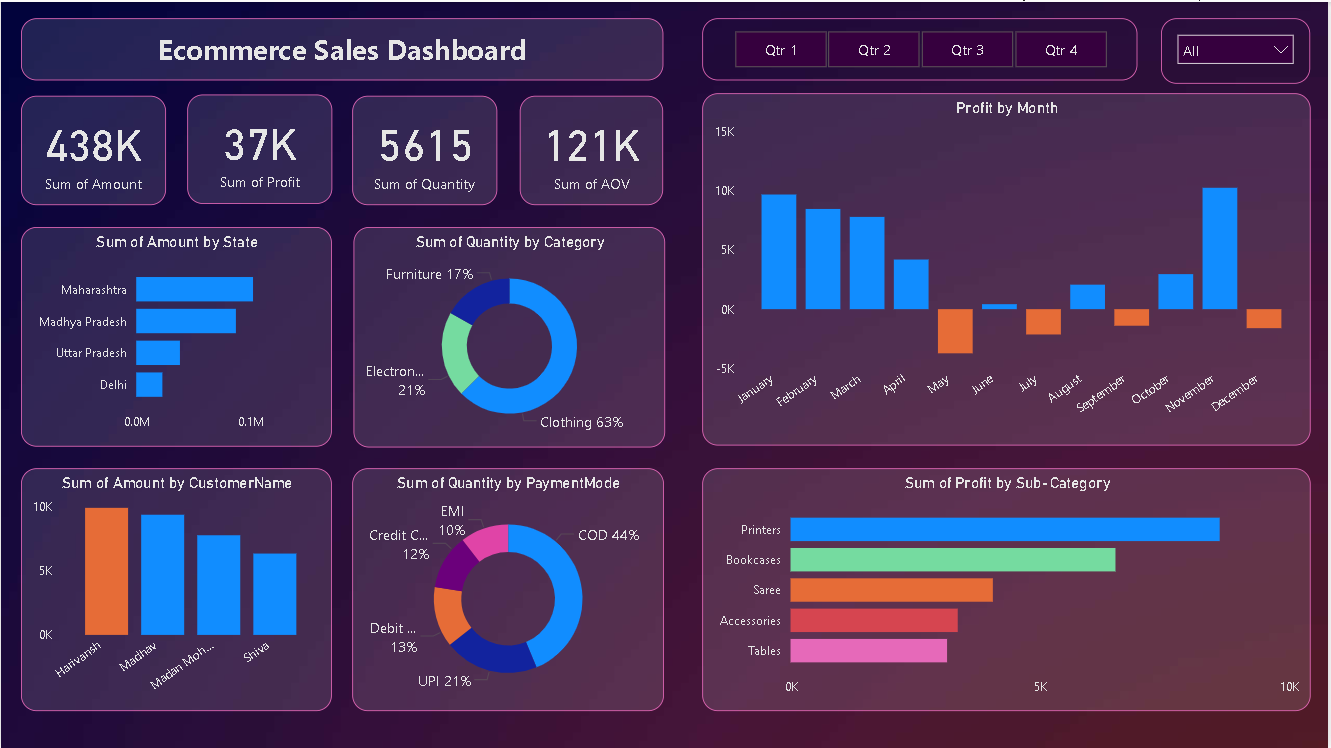

The dashboard page shown, as its layout file describes it:
{"tool":"powerbi","page":{"name":"Page 1","canvas":[1280,720],"ordinal":0},"visuals":[{"type":"columnChart","title":"Profit by Month","fields":{"Y":["Details.Profit"],"Category":["Orders.Order Date.Variation.Date Hierarchy.Month"]},"box":[676.5,87.8,587.3,340.3],"z":0},{"type":"textbox","box":[19.2,15.1,620.2,60.4],"z":1000},{"type":"barChart","fields":{"Category":["Details.Sub-Category"],"Y":["Details.Profit"]},"box":[676.5,450.1,587.3,234.6],"z":2000},{"type":"donutChart","fields":{"Category":["Details.Category"],"Y":["Details.Quantity"]},"box":[340.3,216.8,300.5,212.7],"z":3000},{"type":"donutChart","fields":{"Y":["Details.Quantity"],"Category":["Details.PaymentMode"]},"box":[338.9,450.1,300.5,234.6],"z":4000},{"type":"card","fields":{"Values":["Details.Amount"]},"box":[19.2,90.6,140,105.7],"z":5000},{"type":"card","fields":{"Values":["Details.Profit"]},"box":[179.8,89.2,140,105.7],"z":6000},{"type":"card","fields":{"Values":["Details.Quantity"]},"box":[338.9,90.6,140,105.7],"z":7000},{"type":"card","fields":{"Values":["Details.AOV"]},"box":[500.9,90.6,138.6,105.7],"z":8000},{"type":"barChart","fields":{"Y":["Details.Amount"],"Category":["Orders.State"]},"box":[19.2,216.8,300,212],"z":9000},{"type":"columnChart","fields":{"Category":["Orders.CustomerName"],"Y":["Details.Amount"]},"box":[19.2,450.1,300,234.6],"z":10000},{"type":"slicer","fields":{"Values":["Orders.Order Date.Variation.Date Hierarchy.Quarter"]},"box":[676.5,15.1,419.9,60.4],"z":11000},{"type":"slicer","fields":{"Values":["Orders.State"]},"box":[1119.7,15.1,144.1,63.1],"z":12000}]}

Visuals, with their boxes in screenshot pixels (x1, y1, x2, y2), scaled from the page's 1280x720 canvas onto the 1331x748 screenshot:
"Profit by Month" columnChart: box=[703, 91, 1314, 445]
textbox: box=[20, 16, 665, 78]
barChart - Details.Sub-Category x Details.Profit: box=[703, 468, 1314, 711]
donutChart - Details.Category x Details.Quantity: box=[354, 225, 666, 446]
donutChart - Details.Quantity x Details.PaymentMode: box=[352, 468, 665, 711]
card - Details.Amount: box=[20, 94, 166, 204]
card - Details.Profit: box=[187, 93, 333, 202]
card - Details.Quantity: box=[352, 94, 498, 204]
card - Details.AOV: box=[521, 94, 665, 204]
barChart - Details.Amount x Orders.State: box=[20, 225, 332, 445]
columnChart - Orders.CustomerName x Details.Amount: box=[20, 468, 332, 711]
slicer - Orders.Order Date.Variation.Date Hierarchy.Quarter: box=[703, 16, 1140, 78]
slicer - Orders.State: box=[1164, 16, 1314, 81]
